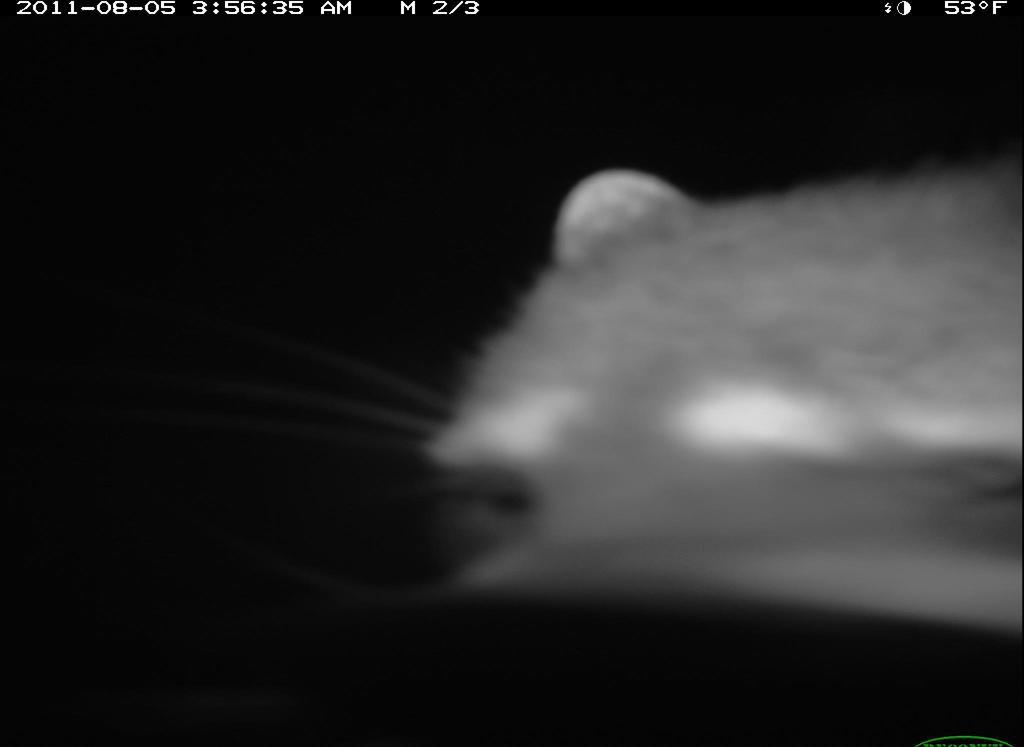raccoon: (382, 139, 1019, 635)
